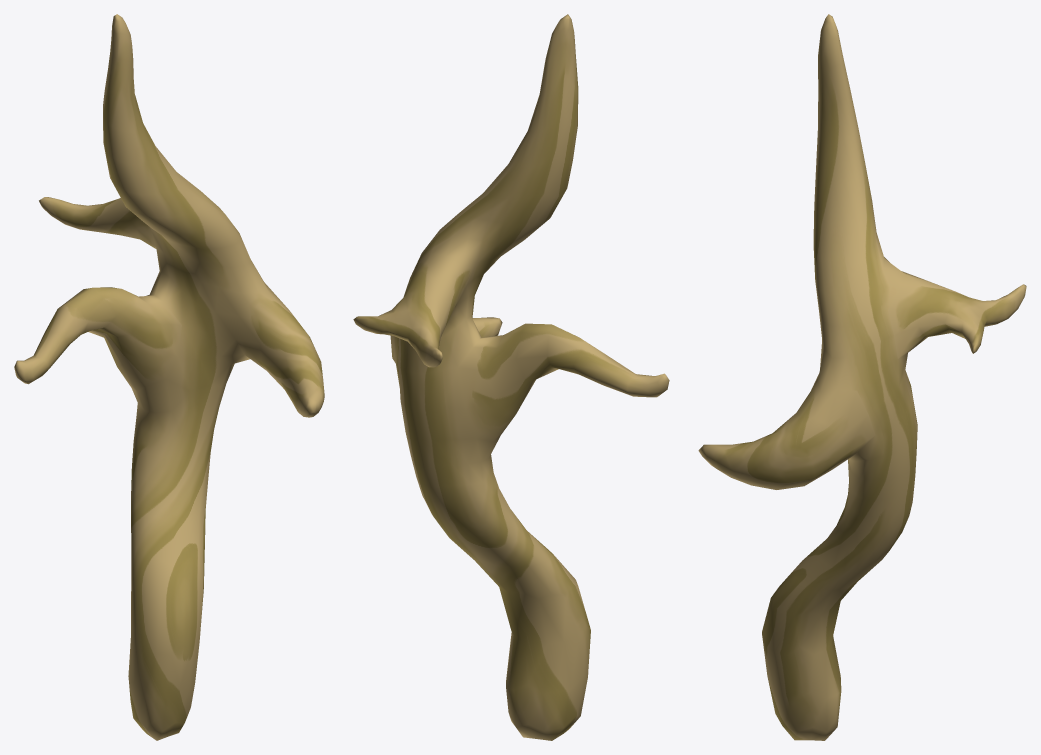
The model's file is FruitTree3.fbx.
The picture shows the model from 3 angles, left to right: view 1: azimuth 30°, elevation 25°; view 2: azimuth 150°, elevation 25°; view 3: azimuth 270°, elevation 25°; orthographic projection. The views are drawn at different scales.
Visible parts, largest first — view 1: FruitTree3; view 2: FruitTree3; view 3: FruitTree3.
Part boxes in pixels (bbox=[...]): FruitTree3: bbox=[14, 14, 324, 740]; FruitTree3: bbox=[353, 14, 669, 740]; FruitTree3: bbox=[698, 14, 1026, 740].
Size of the model in its own units: 490 by 1215 by 512.
Materials: 1 (1 with a texture image).
